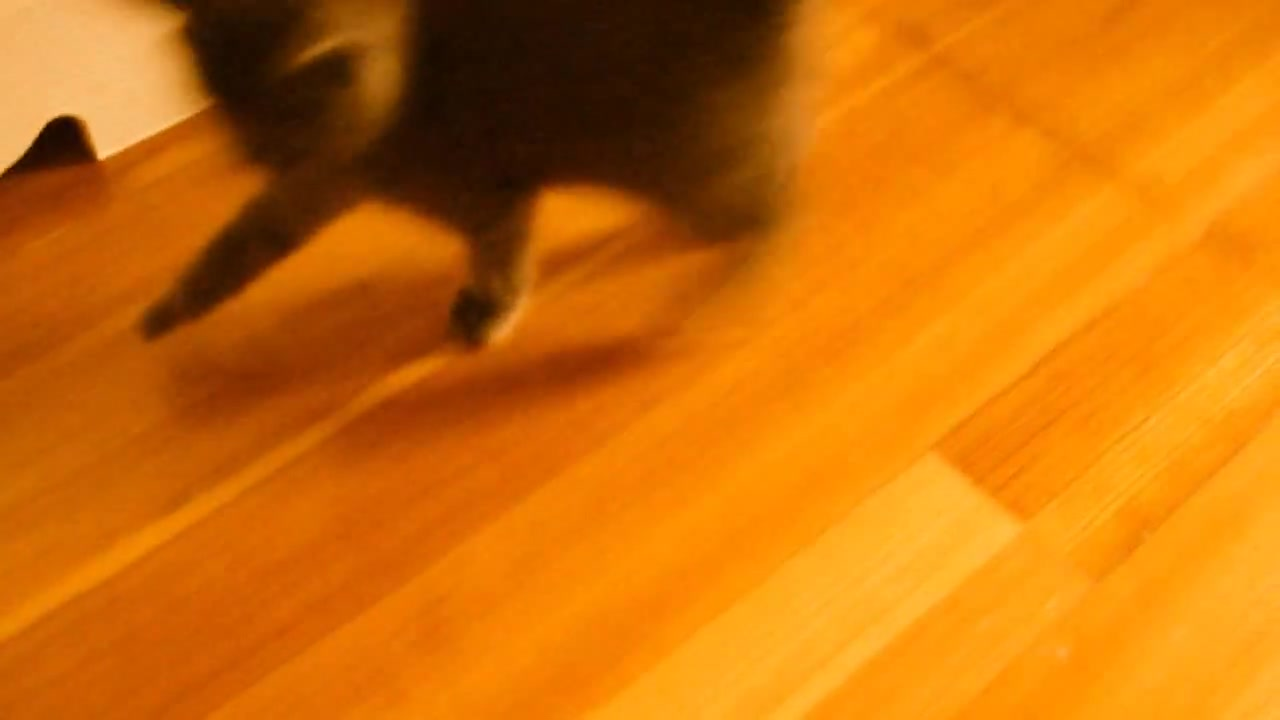cat: (128, 3, 802, 355)
